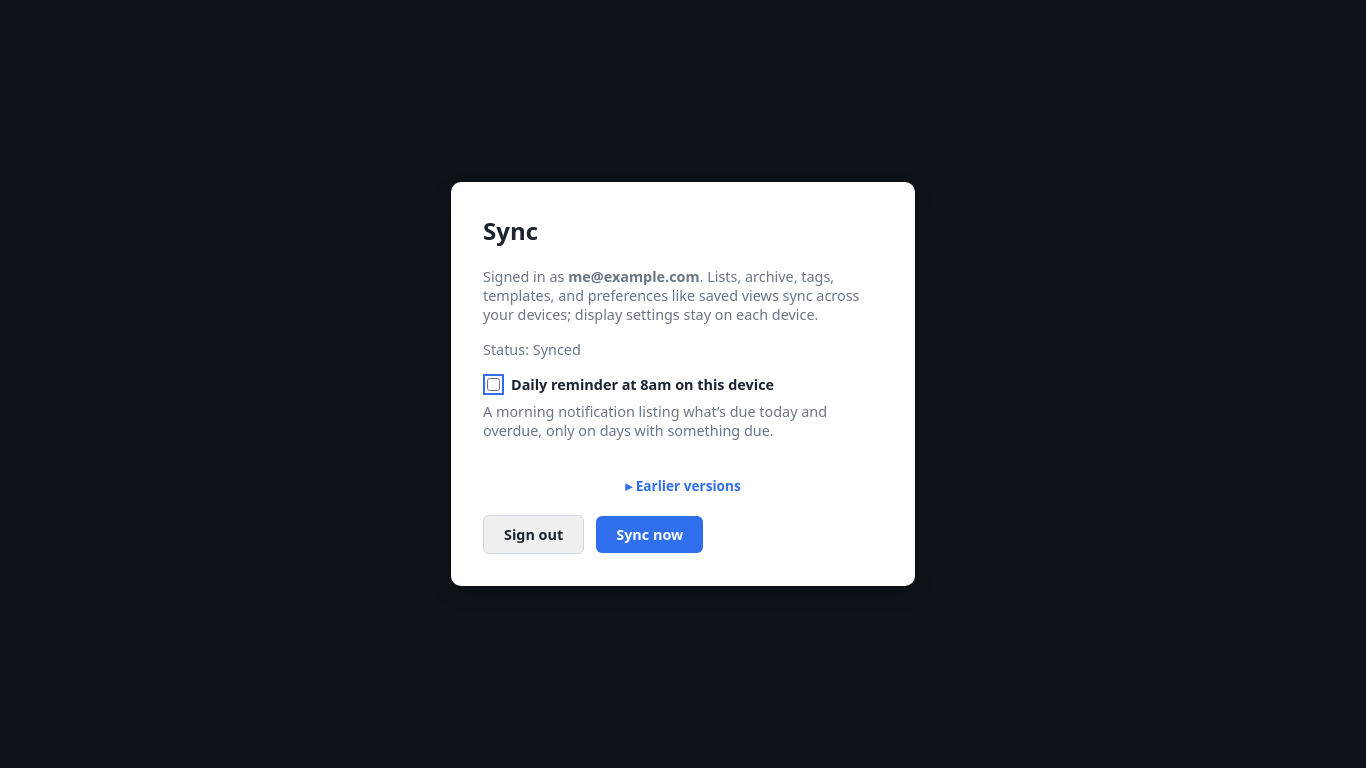
Test: a failure is shown and the box stays off
This screenshot has width=1366, height=768.
Click the checkbox labelled "Daily reminder at 8am on this device" at (494, 385), box left=487, top=378, right=500, bottom=391
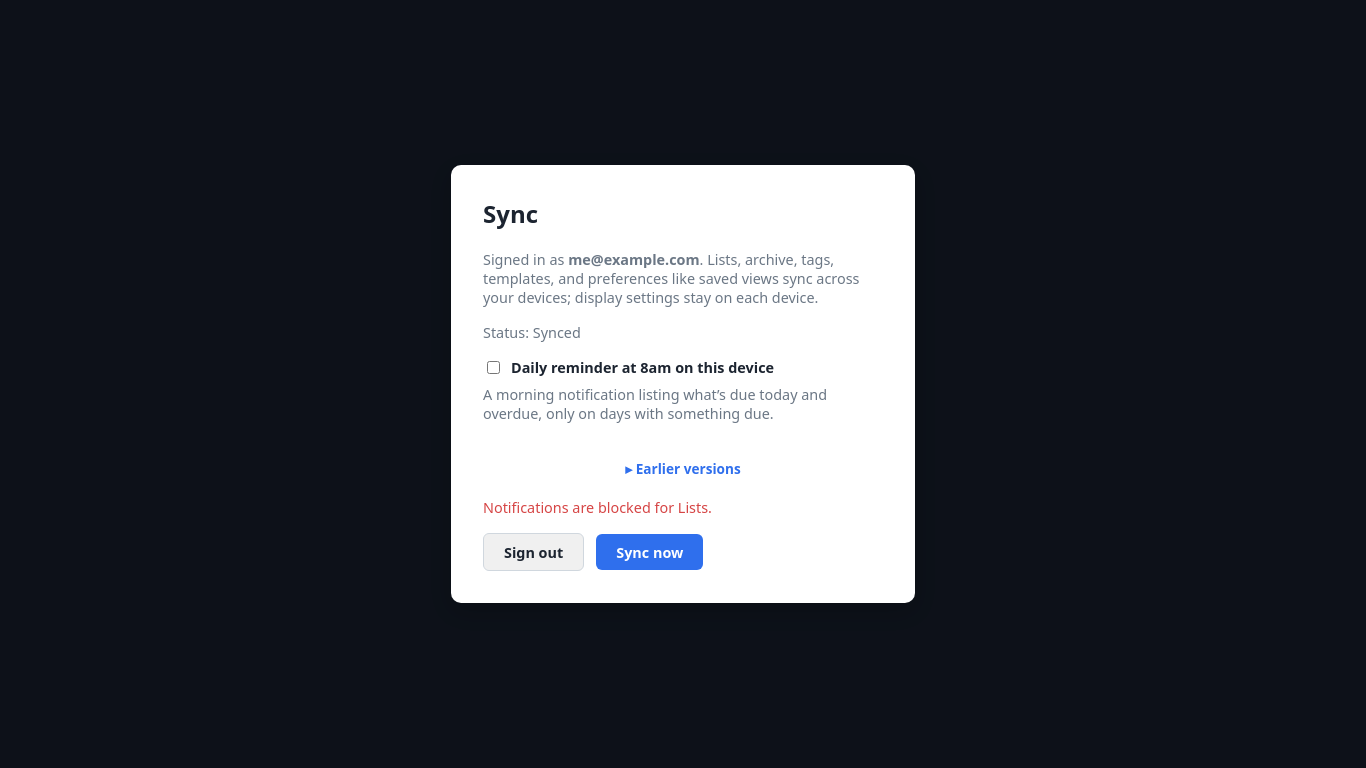
Expected: the checkbox labelled "Daily reminder at 8am on this device" is not checked, left=487, top=361, right=500, bottom=374
Expected: the text "Notifications are blocked for Lists." is shown, left=483, top=498, right=712, bottom=517
